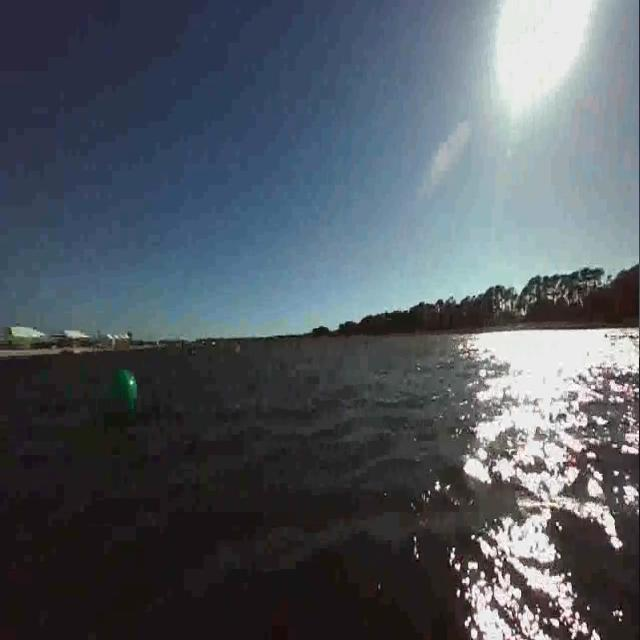green-buoy: (108, 371, 138, 420)
